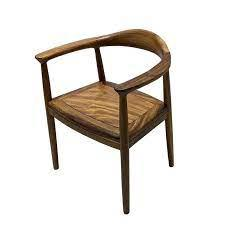chair: (27, 23, 195, 208)
